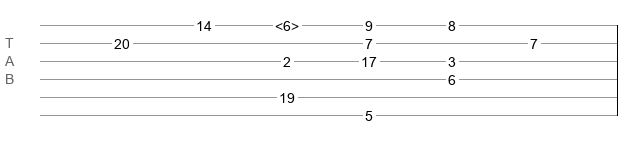14: (196, 18, 212, 28)
17: (361, 54, 377, 64)
19: (279, 90, 295, 100)
2: (283, 54, 291, 64)
20: (114, 36, 130, 46)
3: (448, 54, 456, 64)
5: (365, 108, 373, 118)
6: (448, 72, 456, 82)
7: (365, 36, 373, 46), (530, 36, 538, 46)
8: (448, 18, 456, 28)
9: (365, 18, 373, 28)
harmonic: (275, 18, 299, 28)
